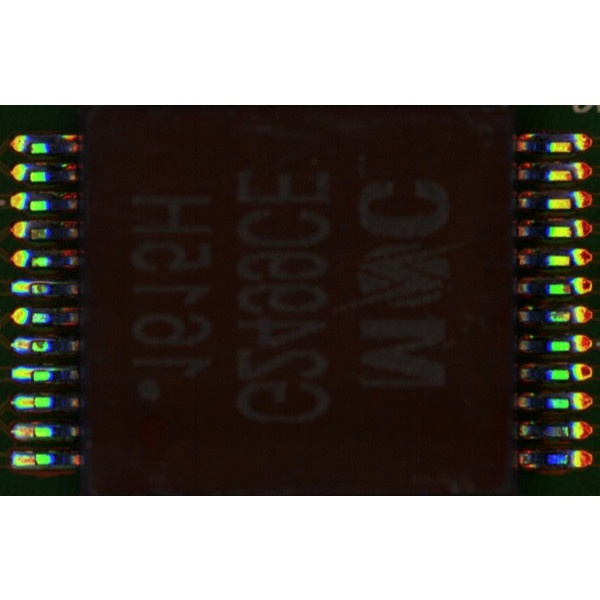Bad_podu: (24, 456, 45, 464), (25, 428, 40, 437), (22, 342, 40, 349), (25, 400, 42, 407), (22, 371, 39, 378)
Bad_qiaojiao: (29, 279, 62, 285), (34, 367, 66, 372)
